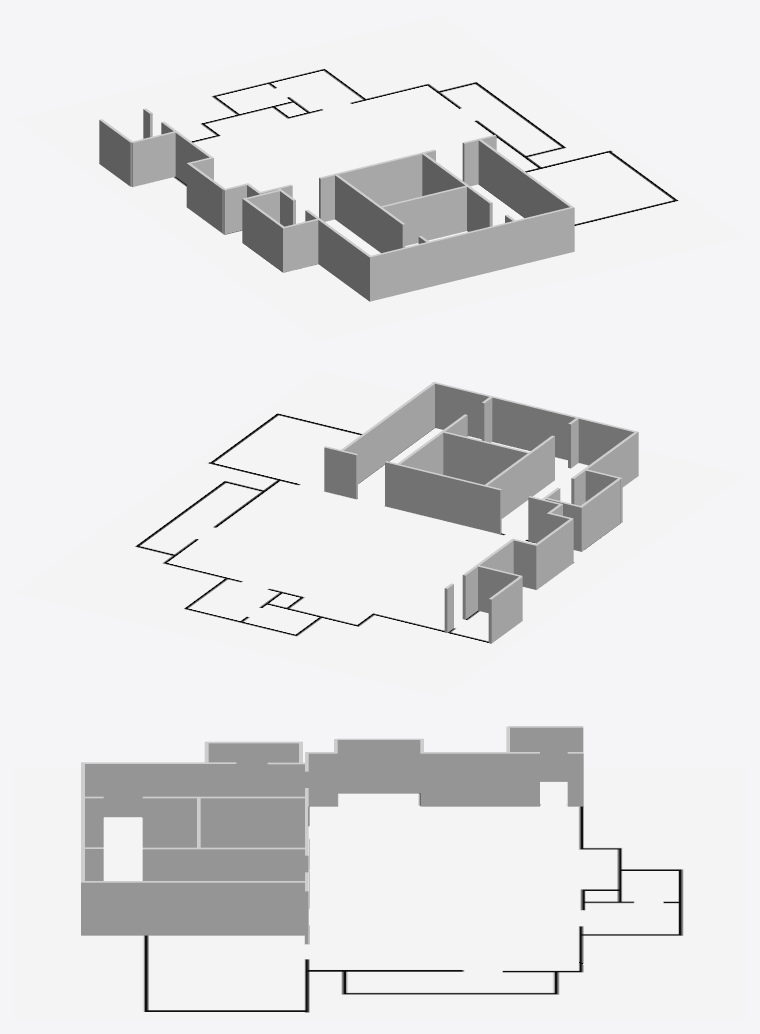
The model's file is fnafmod.glb.
The picture shows the model from 3 angles, top to bottom: view 1: azimuth 30°, elevation 25°; view 2: azimuth 150°, elevation 25°; view 3: azimuth 270°, elevation 25°; orthographic projection. The views are drawn at different scales.
Visible parts, largest first — view 1: Reference plane, Cube.002, Cube, Cube.006, Cube.001, Cube.003, Cube.005, Cube.021, Cube.004, Cube.013, Cube.017, Cube.014 (+5 smaller); view 2: Reference plane, Cube.002, Cube, Cube.006, Cube.001, Cube.003, Cube.005, Cube.013, Cube.017, Cube.022, Cube.009, Cube.019 (+6 smaller); view 3: Reference plane, Cube.006, Cube.003, Cube.019, Cube.005, Cube.004, Cube.017, Cube.013, Cube.022, Cube.015, Cube.011, Cube.007 (+3 smaller).
Part boxes in pixels (x1,y1,x2,y2): Reference plane: (14,14,745,341); Cube.002: (368,206,574,300); Cube: (319,149,435,221); Cube.006: (478,139,574,252); Cube.001: (379,185,468,245); Cube.003: (335,174,405,253); Cube.005: (305,210,372,301); Cube.021: (131,131,176,186); Cube.004: (422,153,492,231); Cube.013: (244,199,285,270); Cube.017: (186,163,224,233); Cube.014: (281,219,318,272); Reference plane: (14,370,745,697); Cube.002: (432,382,637,465); Cube: (385,461,501,534); Cube.006: (341,382,435,483); Cube.001: (442,431,530,484); Cube.003: (485,435,554,518); Cube.005: (571,431,638,505); Cube.013: (580,477,620,550); Cube.017: (534,519,572,589); Cube.022: (488,576,522,643); Cube.009: (324,446,357,499); Cube.019: (462,540,513,619); Reference plane: (14,768,745,1019); Cube.006: (81,881,307,935); Cube.003: (142,796,304,847); Cube.019: (424,752,539,806); Cube.005: (81,762,236,816); Cube.004: (142,847,304,880); Cube.017: (337,738,423,793); Cube.013: (205,741,298,796); Cube.022: (508,726,583,780); Cube.015: (307,752,336,806); Cube.011: (267,762,306,796); Cube.007: (82,796,103,847).
Bounding box in the file's own units: 60.88 × 6 × 75.
2 materials, 1 textured.
